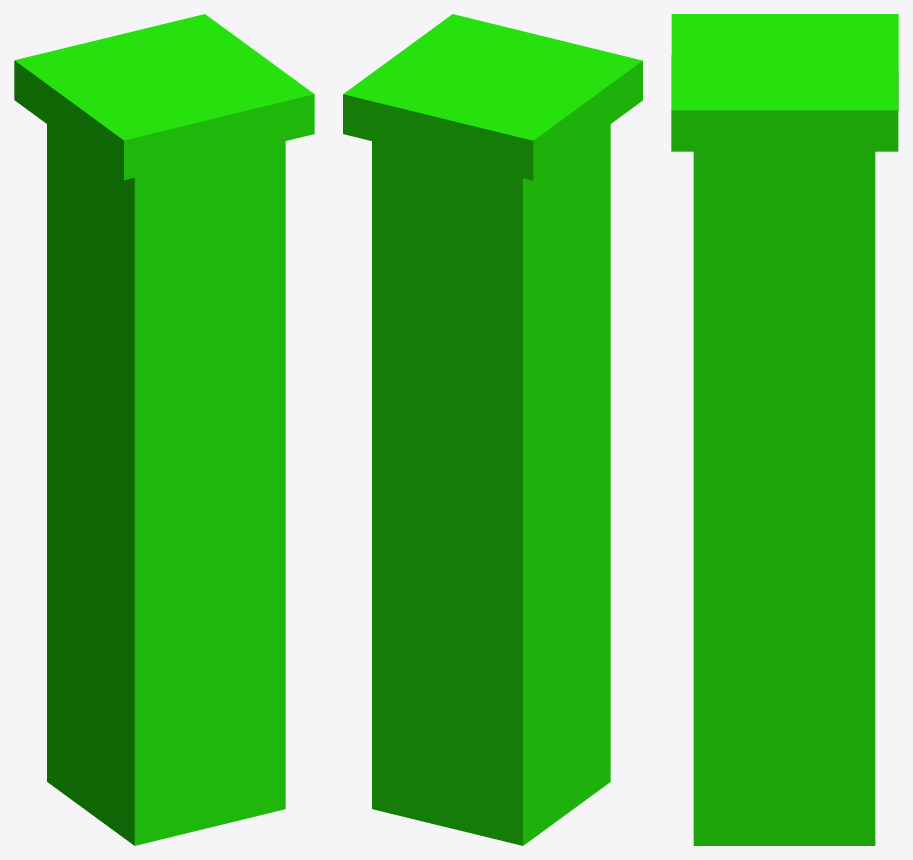
Rendered from pillar_low.FBX.
3 renders of one model, left to right at view 1: azimuth 30°, elevation 25°; view 2: azimuth 150°, elevation 25°; view 3: azimuth 270°, elevation 25°, orthographic. The views are drawn at different scales.
Visible parts, largest first — view 1: pillar_low; view 2: pillar_low; view 3: pillar_low.
Part boxes in pixels (box(x1,y1,x2,y2)): pillar_low: box(14, 14, 314, 845); pillar_low: box(343, 14, 642, 845); pillar_low: box(671, 14, 898, 845).
Bounding box in the file's own units: 49.9 × 180 × 49.83.
